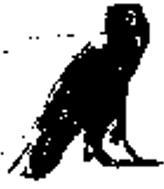Owl: (6, 3, 162, 181)
